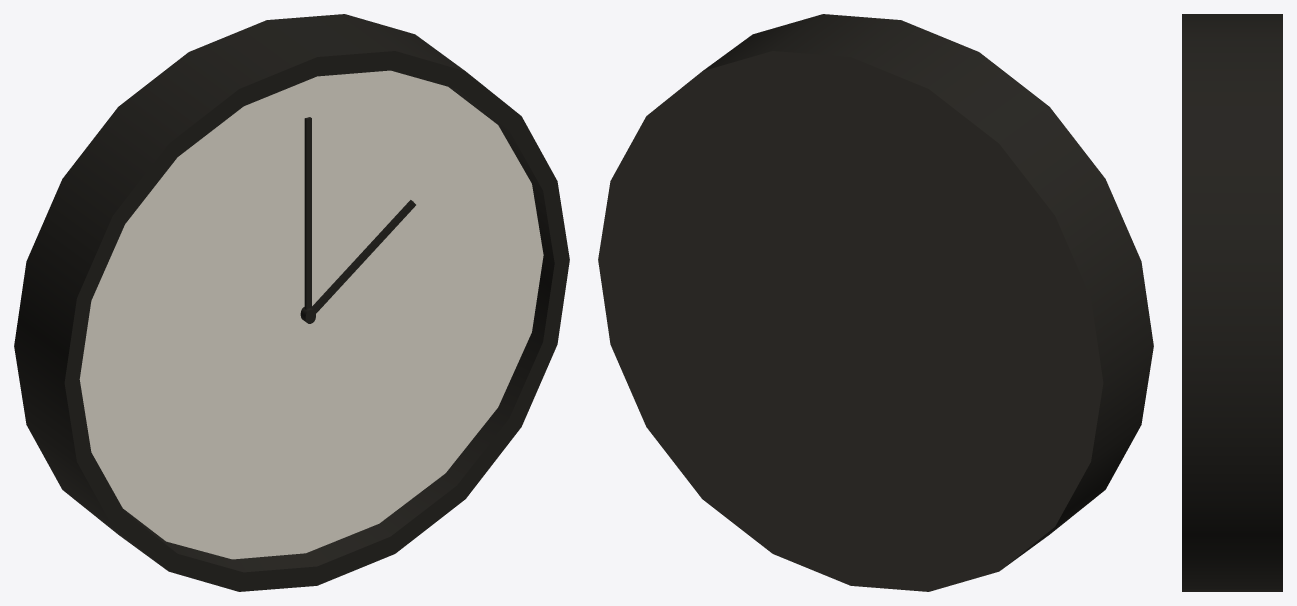
Rendered from Clock.fbx.
3 renders of one model, left to right at view 1: azimuth 30°, elevation 25°; view 2: azimuth 150°, elevation 25°; view 3: azimuth 270°, elevation 25°, orthographic.
Parts seen in each view (by area): view 1: pCube3; view 2: pCube3; view 3: pCube3.
Part boxes in pixels (x1=…): pCube3: x1=14, y1=14, x2=569, y2=591; pCube3: x1=598, y1=14, x2=1153, y2=591; pCube3: x1=1182, y1=14, x2=1282, y2=591.
Size of the model in its own units: 6.77 by 6.77 by 1.17.
Materials: 1 (1 with a texture image).
